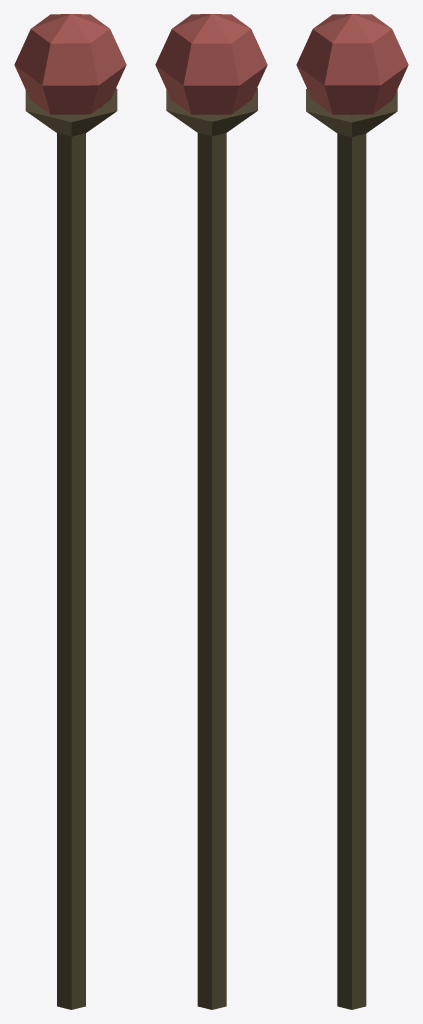
The model's file is MageStaff.fbx.
3 views of the same model, side by side, from view 1: azimuth 90°, elevation 25°; view 2: azimuth 150°, elevation 25°; view 3: azimuth 330°, elevation 25° (orthographic).
Parts seen in each view (by area): view 1: pCylinder3; view 2: pCylinder3; view 3: pCylinder3.
Part boxes in pixels (x1=…): pCylinder3: x1=14, y1=14, x2=126, y2=1009; pCylinder3: x1=155, y1=14, x2=267, y2=1009; pCylinder3: x1=296, y1=14, x2=408, y2=1009.
Size of the model in its own units: 0.1505 by 1.55 by 0.1595.
